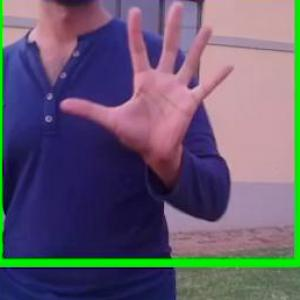follow_hand: (57, 0, 241, 172)
